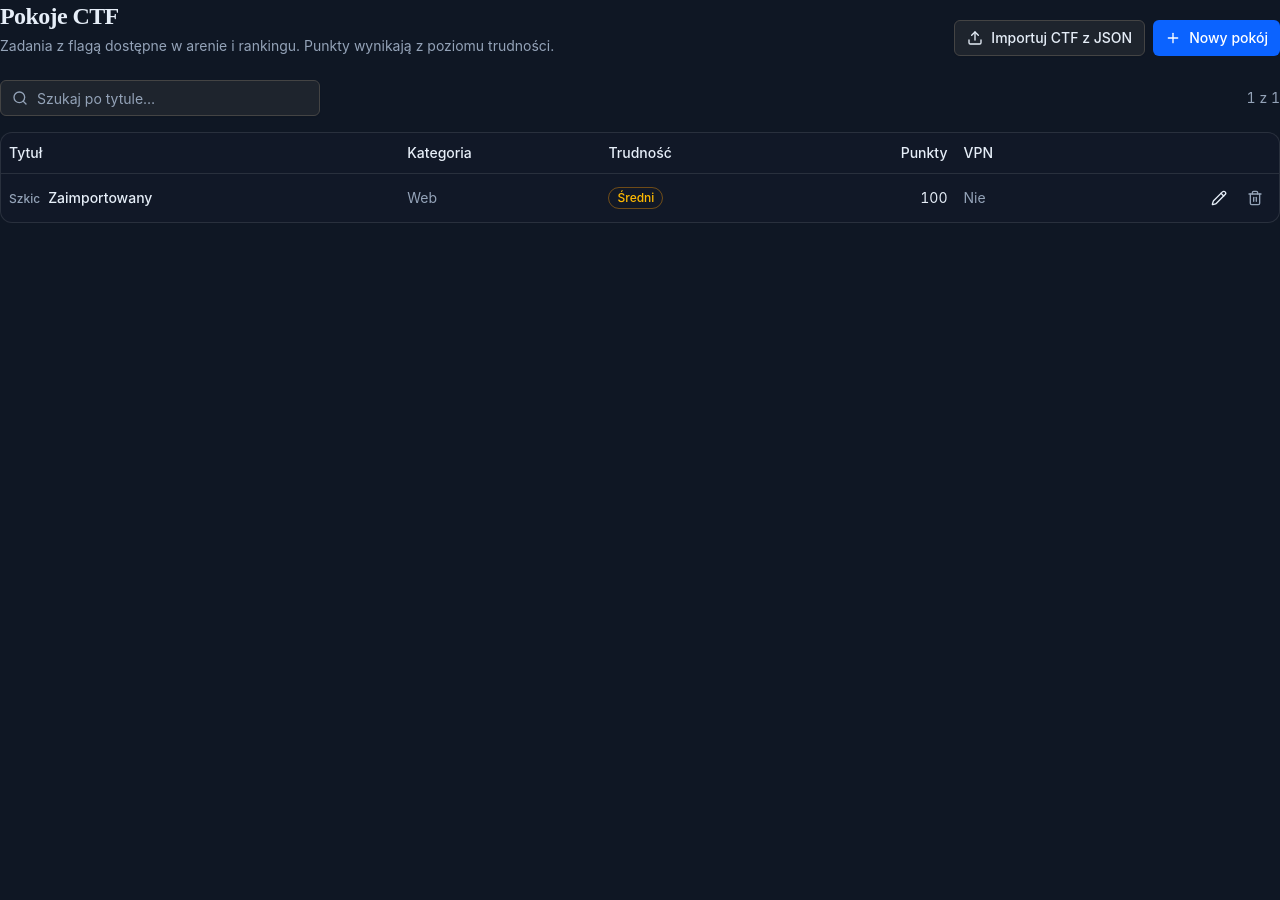
Scenario: CTF JSON import › preserves rows on delete failure and removes them after confirmed deletion
Click the button named "Usuń Zaimportowany": (1255, 198) [1239,182,1271,214]
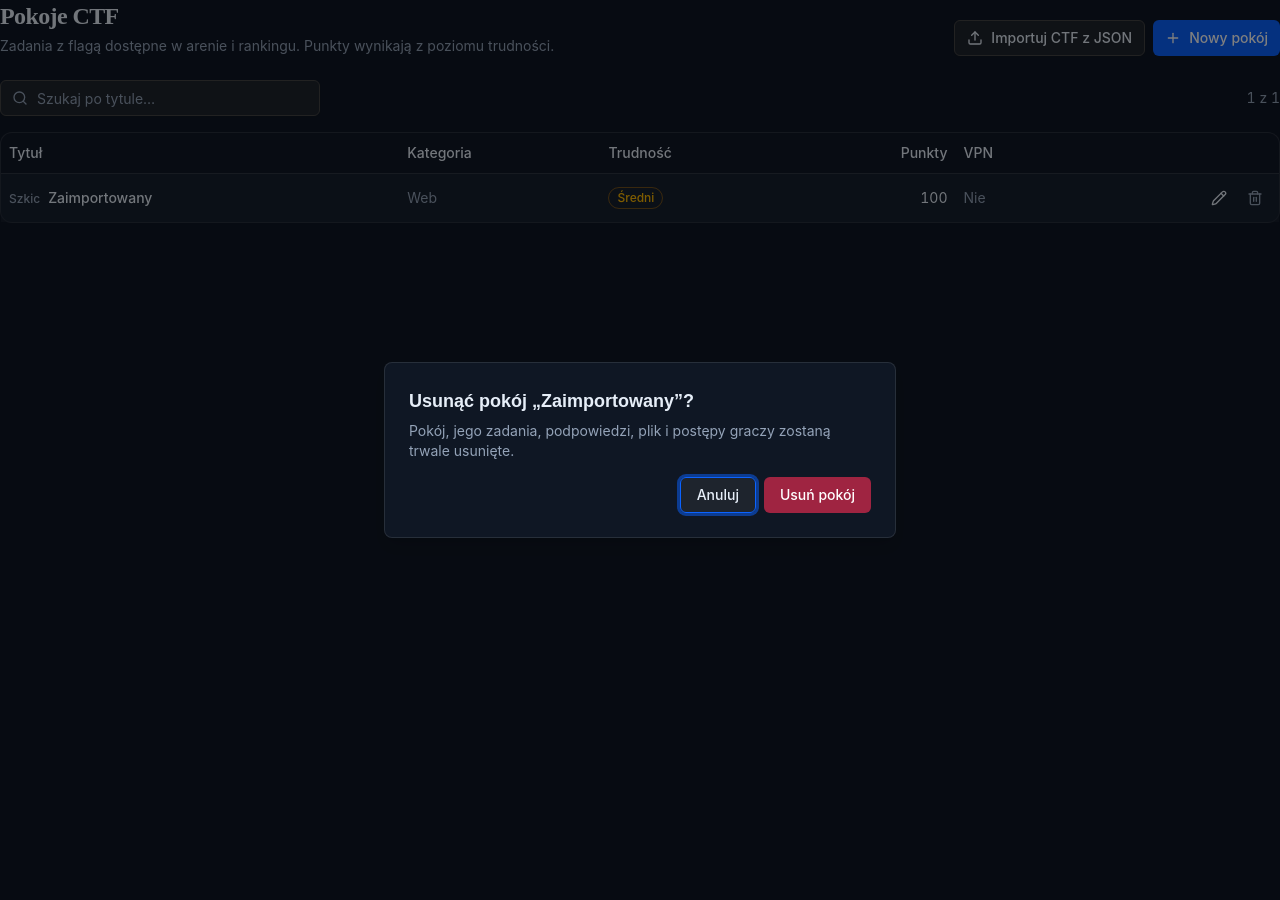
Click the button "Usuń pokój": (817, 495) [764,477,871,513]
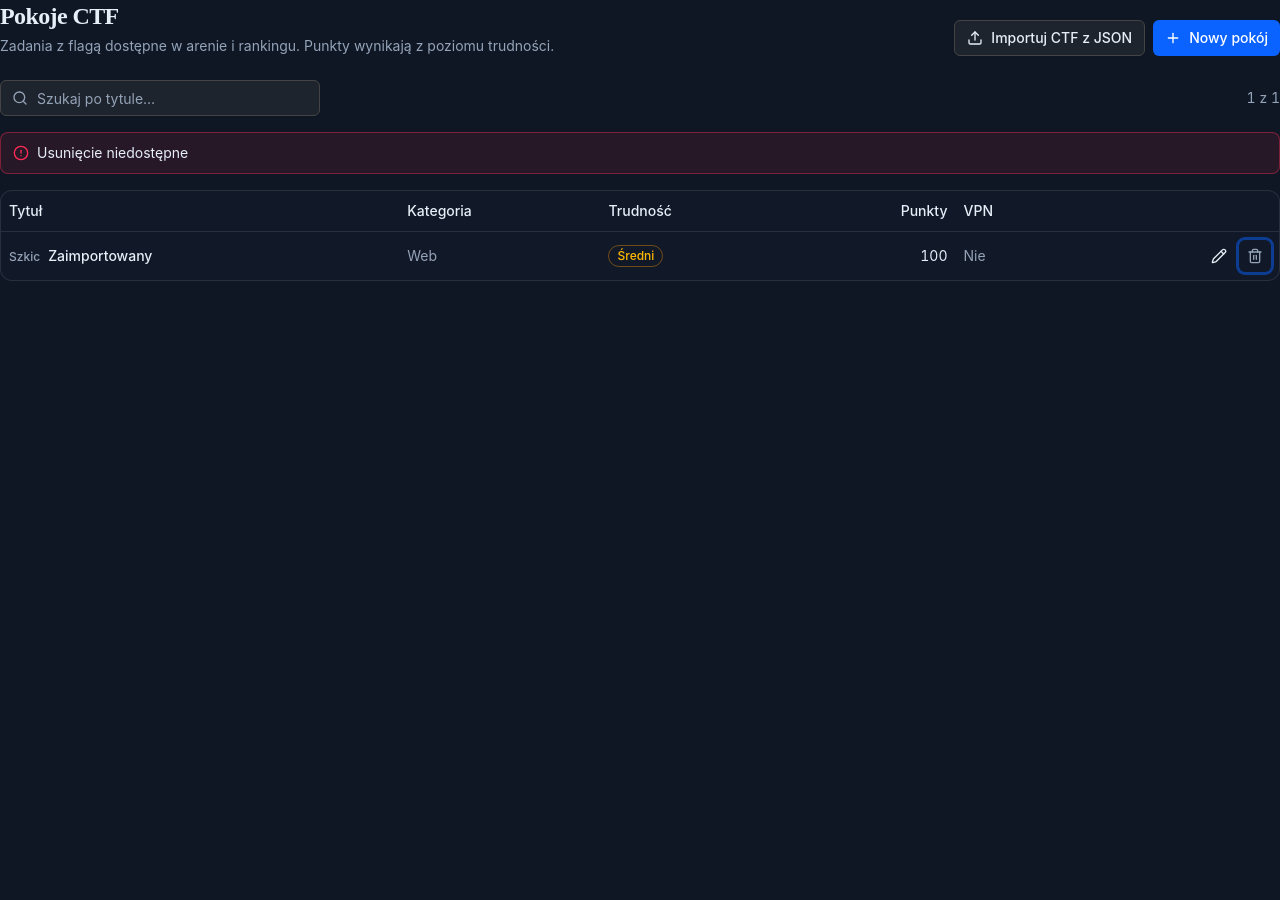
Expected: the link "Zaimportowany" is shown, [48,246,152,264]
Expected: the text "Usunięcie niedostępne" is shown, [37,143,188,163]
Click the button named "Usuń Zaimportowany": (1255, 256) [1239,240,1271,272]
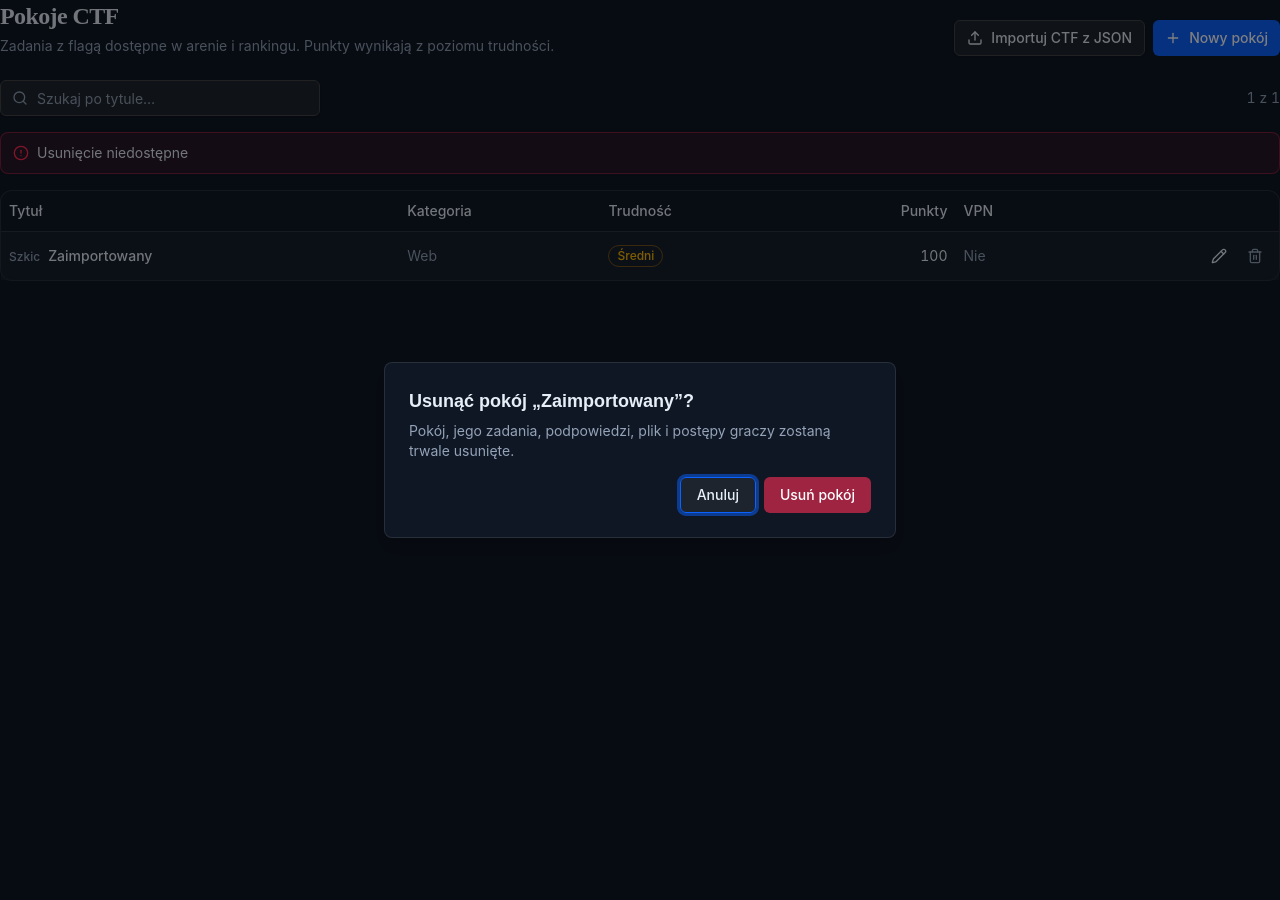
Click the button "Usuń pokój": (817, 495) [764,477,871,513]
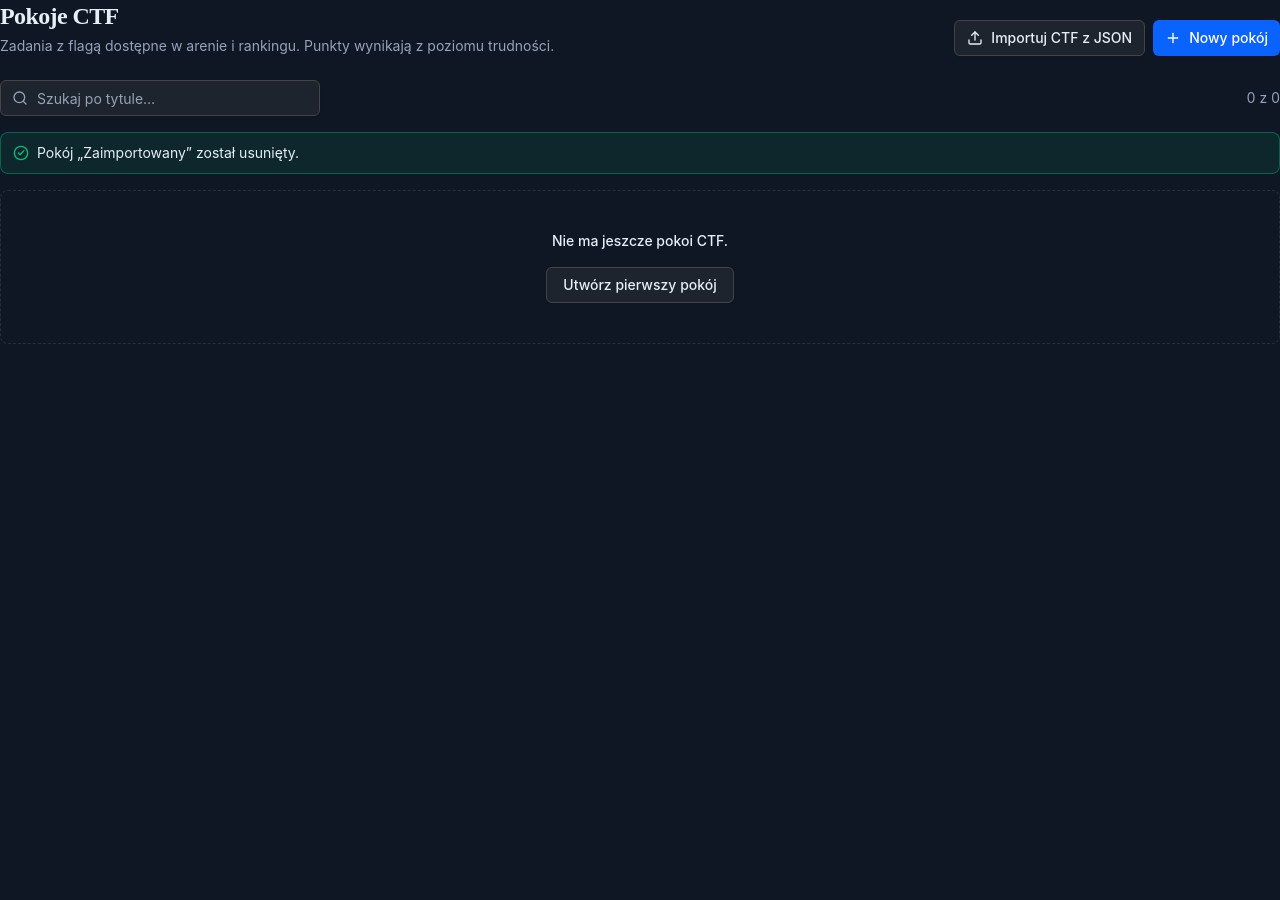
Expected: the text "Pokój „Zaimportowany” został usunięty." is shown, [37,143,299,163]
